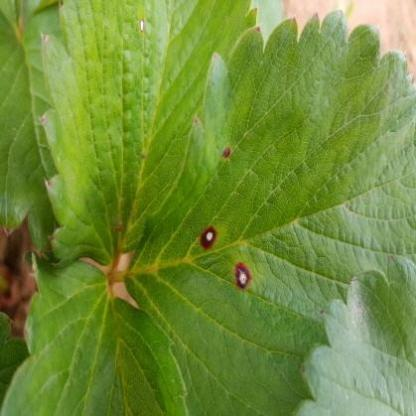Strawberry_Leaf_Spot: (121, 8, 416, 416), (38, 0, 260, 271)
